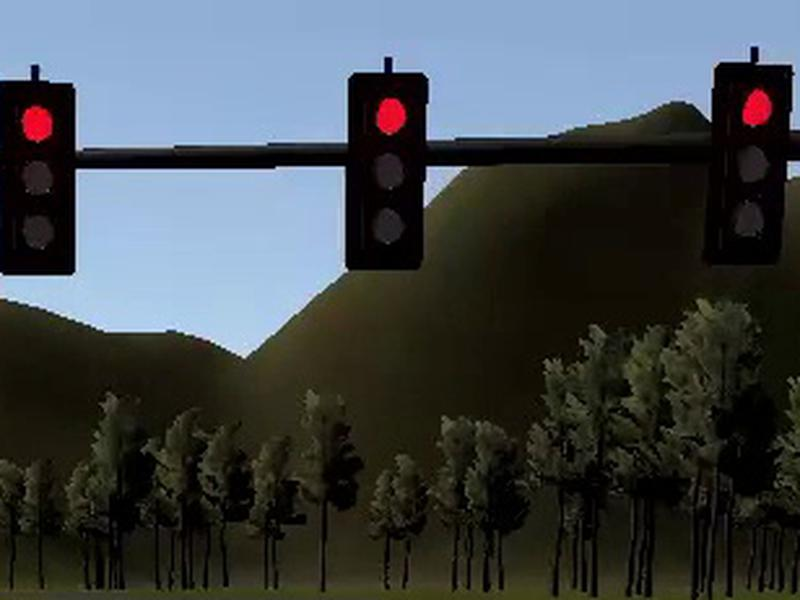Red: (701, 65, 793, 265), (349, 73, 423, 269), (1, 81, 73, 276)
